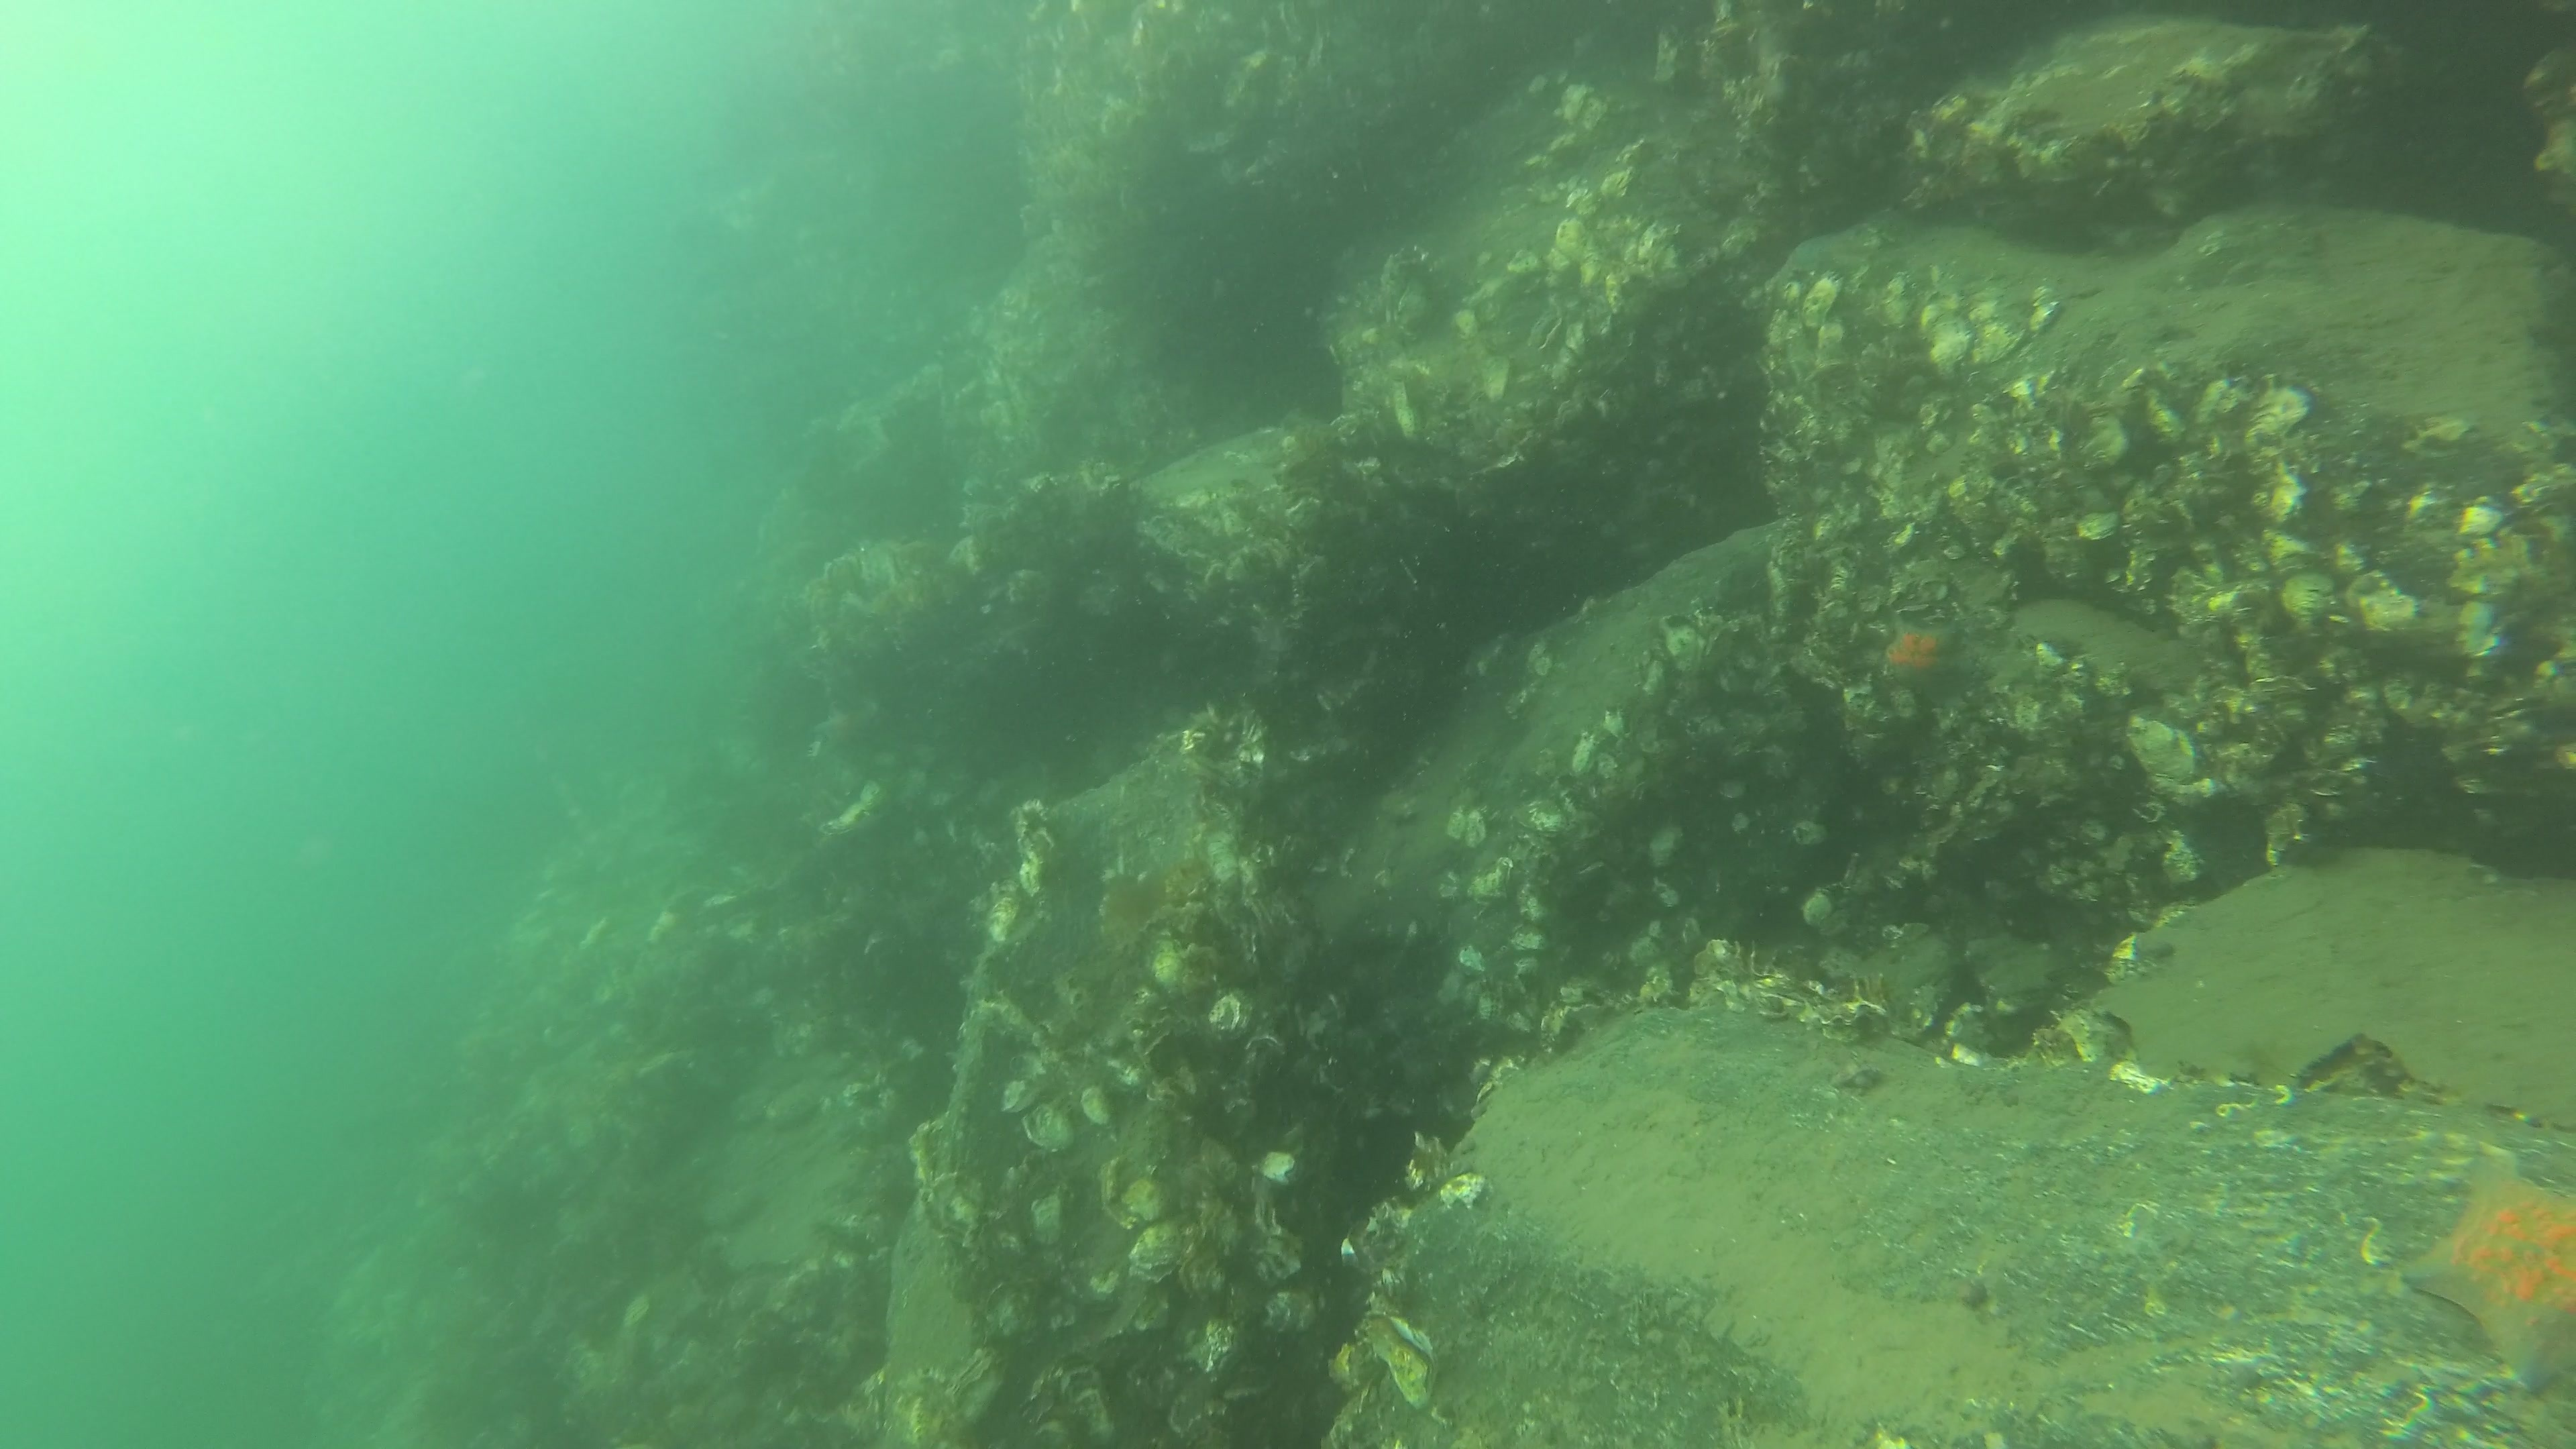starfish: (2410, 1157, 2576, 1389), (1875, 609, 1971, 704), (1760, 228, 1852, 297), (814, 706, 879, 757)
